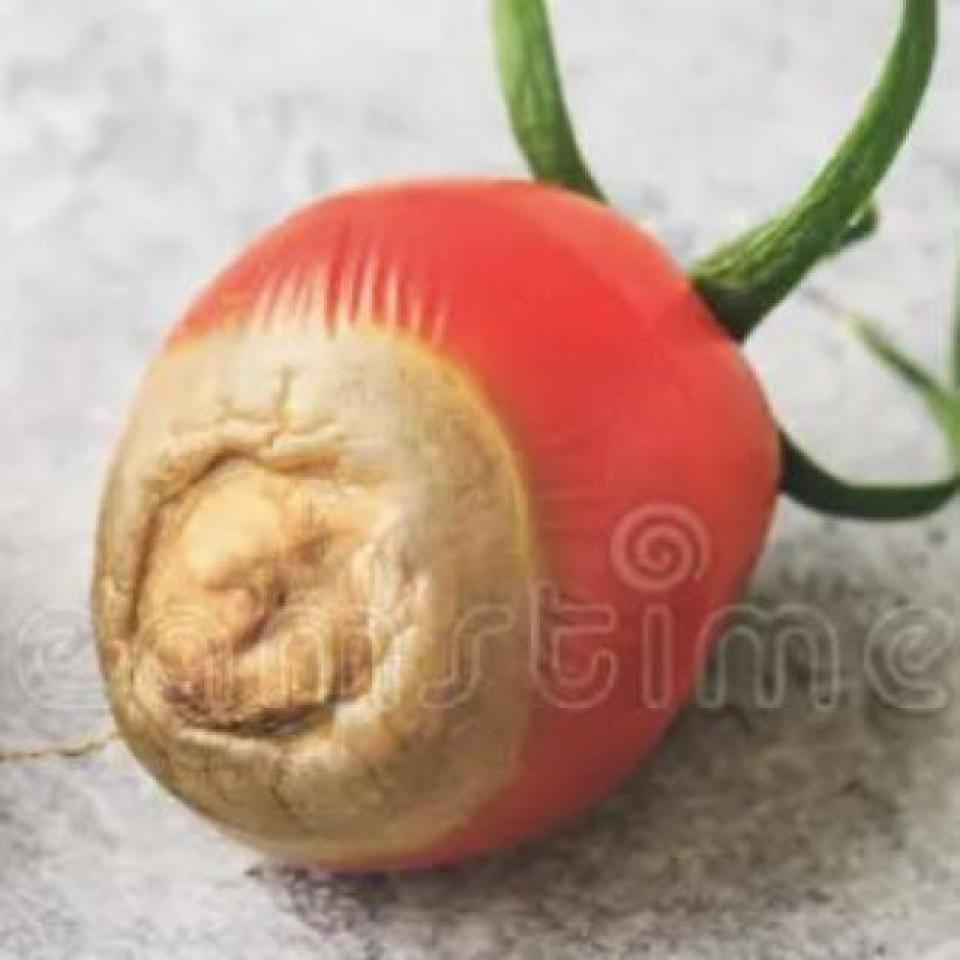Blossom_end_rot: (84, 298, 520, 876)
